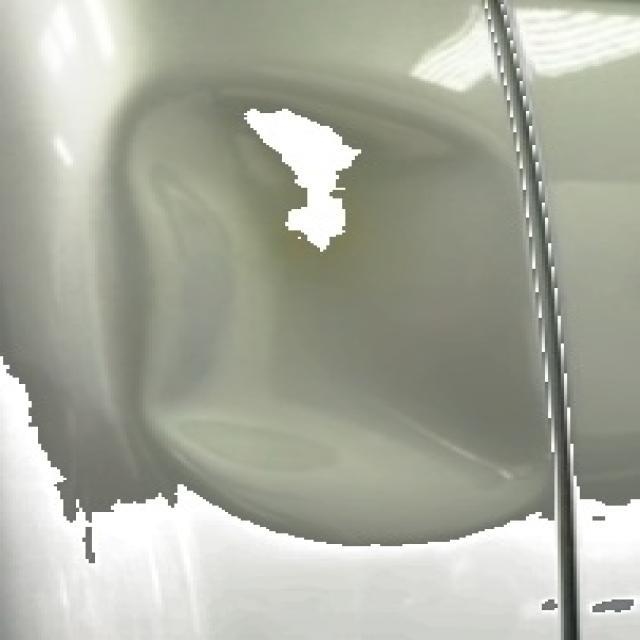dent: (125, 80, 559, 545)
